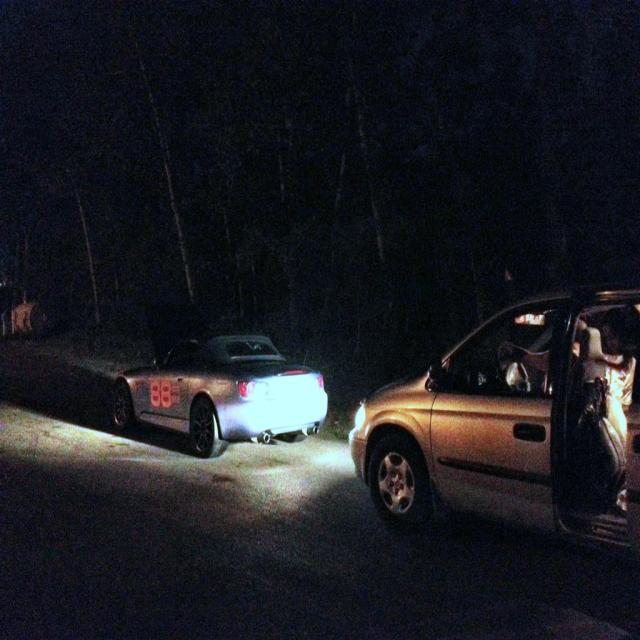car: (111, 331, 326, 455)
